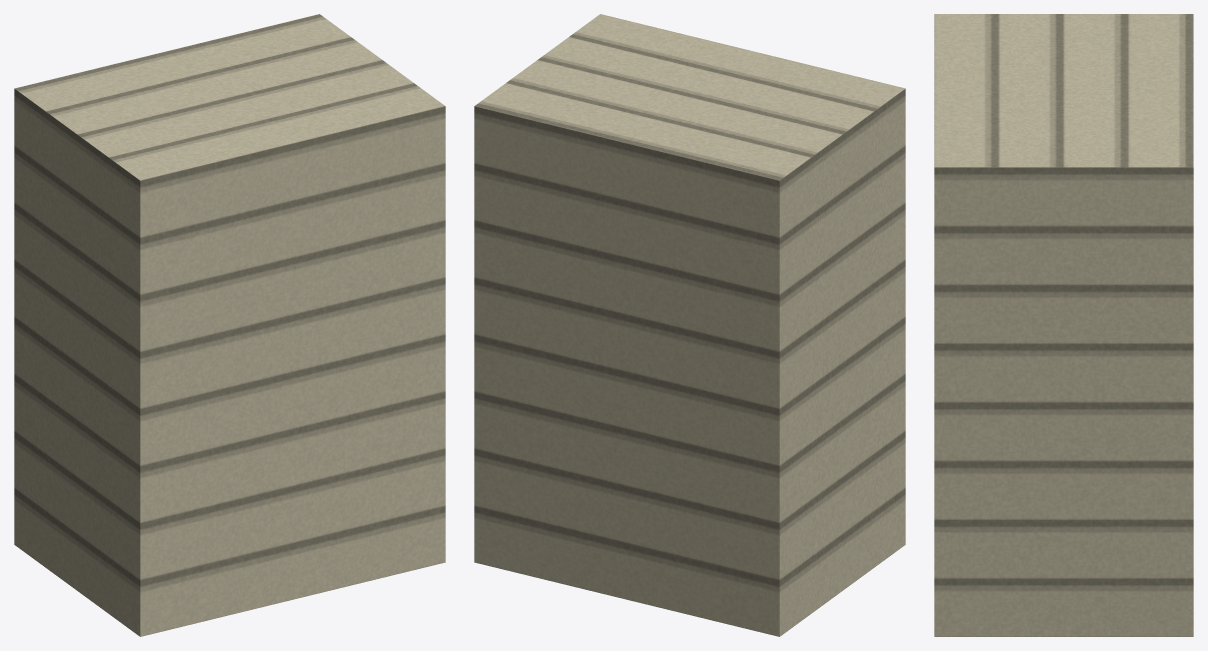
Rendered from key_cutting_station.glb.
The picture shows the model from 3 angles, left to right: view 1: azimuth 30°, elevation 25°; view 2: azimuth 150°, elevation 25°; view 3: azimuth 270°, elevation 25°; orthographic projection. The views are drawn at different scales.
Parts seen in each view (by area): view 1: key_cutting_station-col; view 2: key_cutting_station-col; view 3: key_cutting_station-col.
Part boxes in pixels (x1,y1,x2,y2): key_cutting_station-col: (14, 14, 445, 636); key_cutting_station-col: (474, 14, 905, 636); key_cutting_station-col: (934, 14, 1193, 636).
Bounding box in the file's own units: 0.7 × 1 × 0.5.
1 material, 1 textured.
